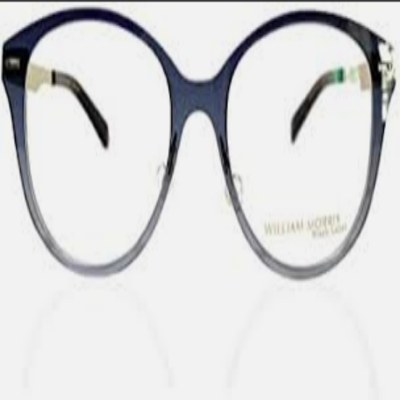glasses: (5, 8, 400, 289)
